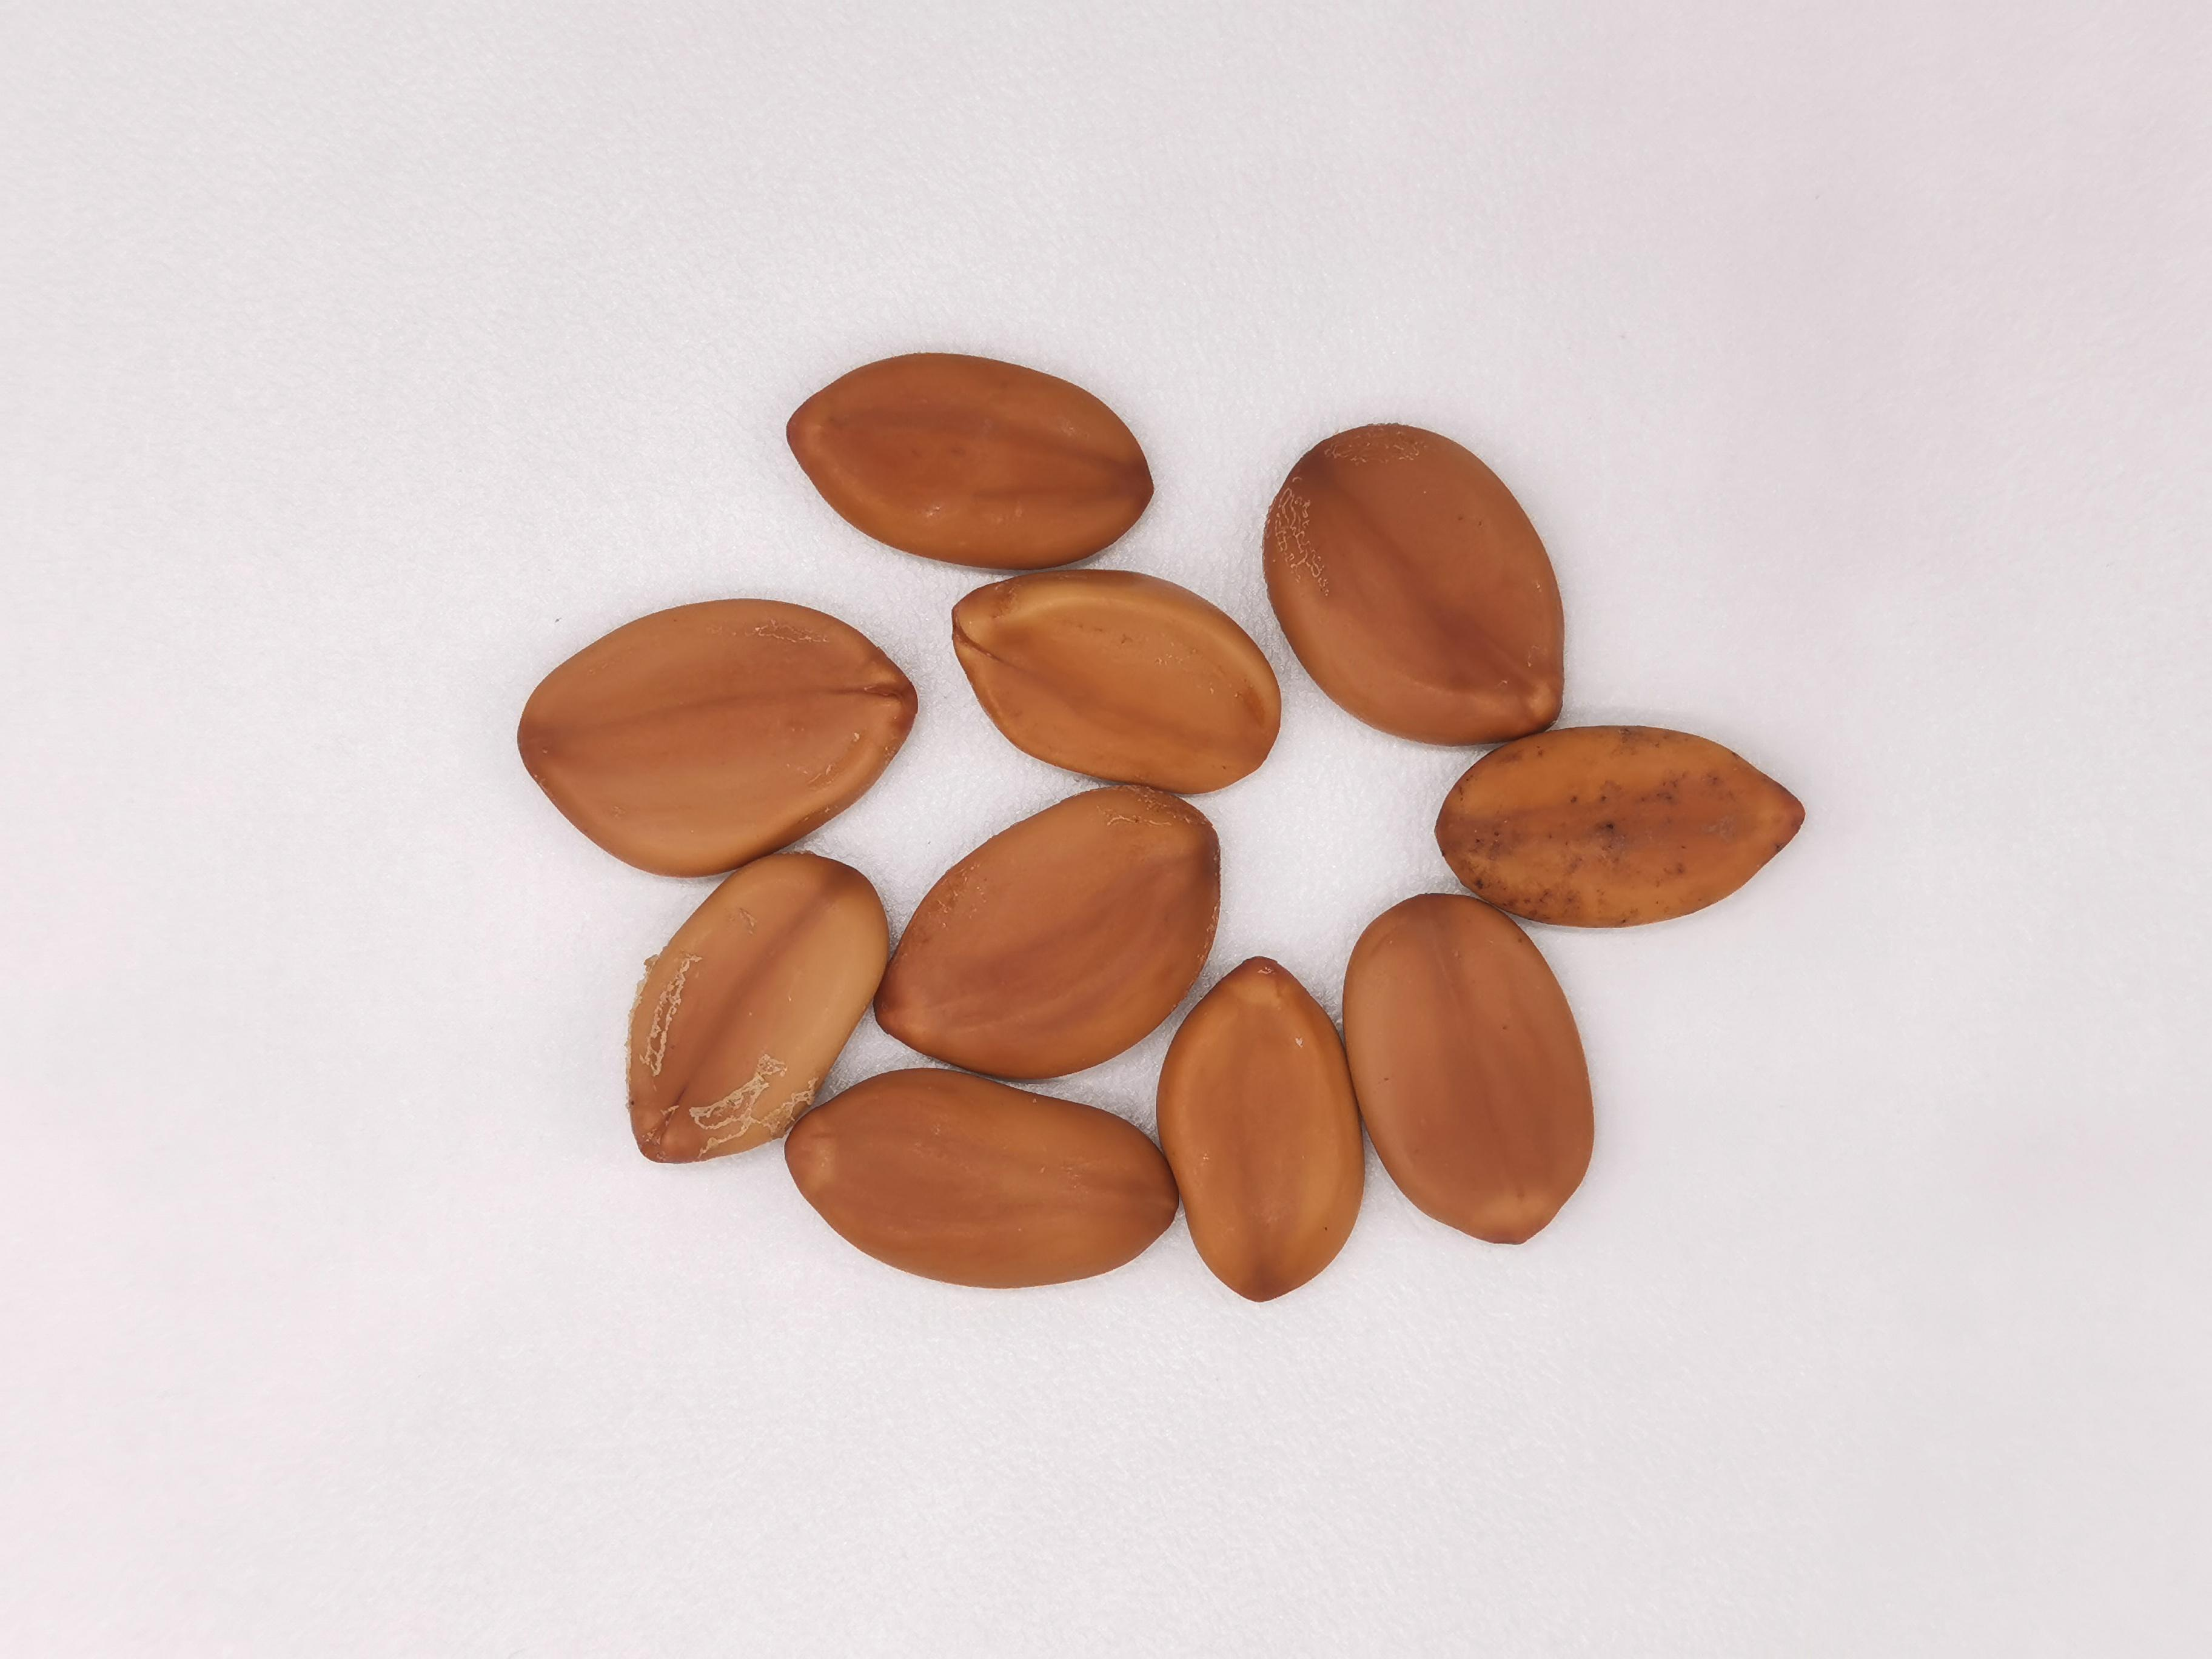seed: (512, 592, 916, 882), (876, 786, 1224, 1080), (1259, 416, 1566, 741), (1339, 892, 1595, 1243), (787, 1070, 1174, 1284), (1428, 716, 1811, 931), (787, 343, 1157, 565), (944, 561, 1284, 796), (625, 849, 881, 1159), (1157, 958, 1362, 1302)
